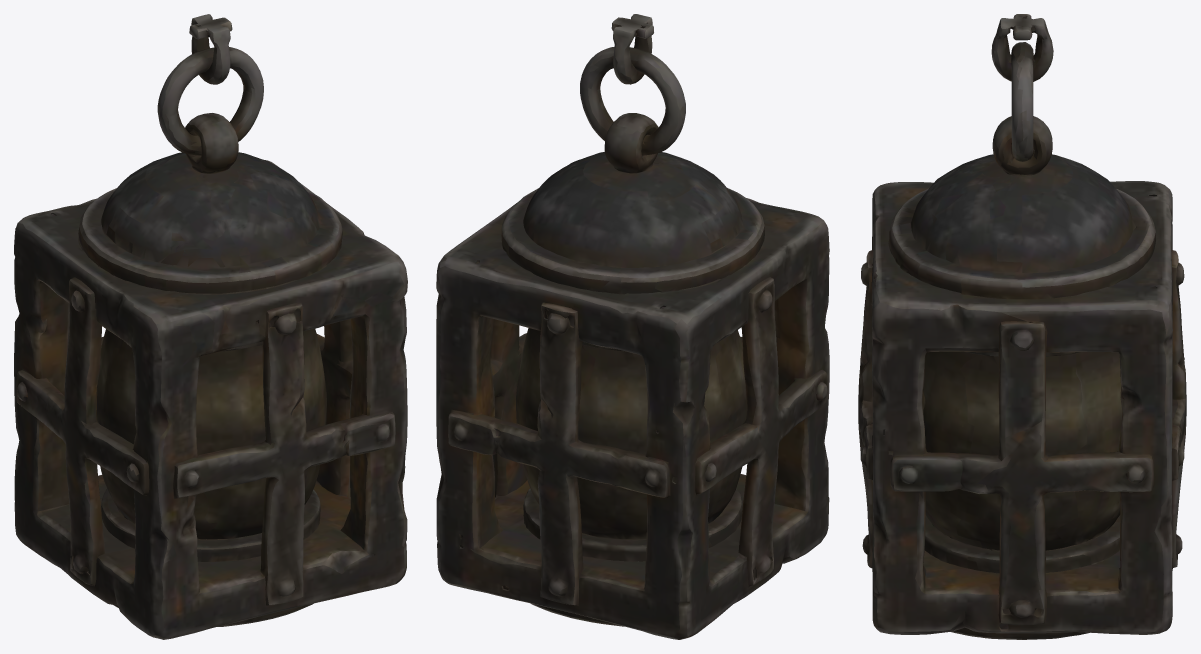
The model's file is env_lantern.glb.
The picture shows the model from 3 angles, left to right: view 1: azimuth 30°, elevation 25°; view 2: azimuth 150°, elevation 25°; view 3: azimuth 270°, elevation 25°; orthographic projection. The views are drawn at different scales.
Visible parts, largest first — view 1: world; view 2: world; view 3: world.
Boxes of the visible parts, left/top/right/bottom form: world: left=14, top=14, right=407, bottom=639; world: left=436, top=14, right=829, bottom=639; world: left=858, top=14, right=1186, bottom=639.
Bounding box in the file's own units: 0.1814 × 0.35 × 0.1805.
1 material, 1 textured.
